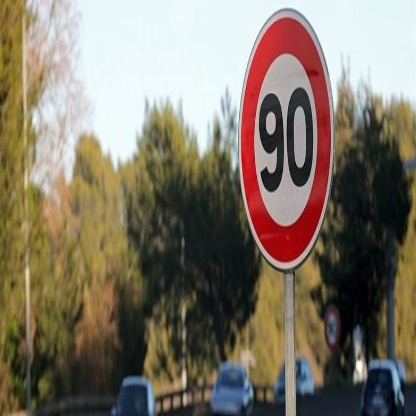limit2: (239, 8, 337, 275)
